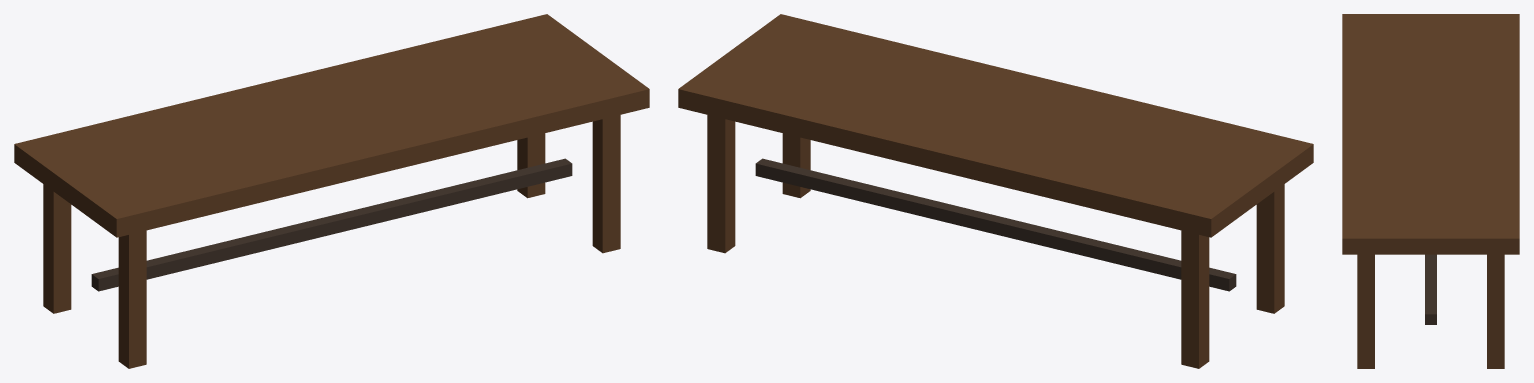
The model's file is living_table_long.glb.
3 renders of one model, left to right at view 1: azimuth 30°, elevation 25°; view 2: azimuth 150°, elevation 25°; view 3: azimuth 270°, elevation 25°, orthographic. The views are drawn at different scales.
Parts seen in each view (by area): view 1: sw5e_int_living_table_long; view 2: sw5e_int_living_table_long; view 3: sw5e_int_living_table_long.
Part boxes in pixels (box(x1,y1,x2,y2)): sw5e_int_living_table_long: box(14, 14, 649, 368); sw5e_int_living_table_long: box(678, 14, 1313, 368); sw5e_int_living_table_long: box(1342, 14, 1519, 368).
Size of the model in its own units: 1.8 by 0.52 by 0.6.
